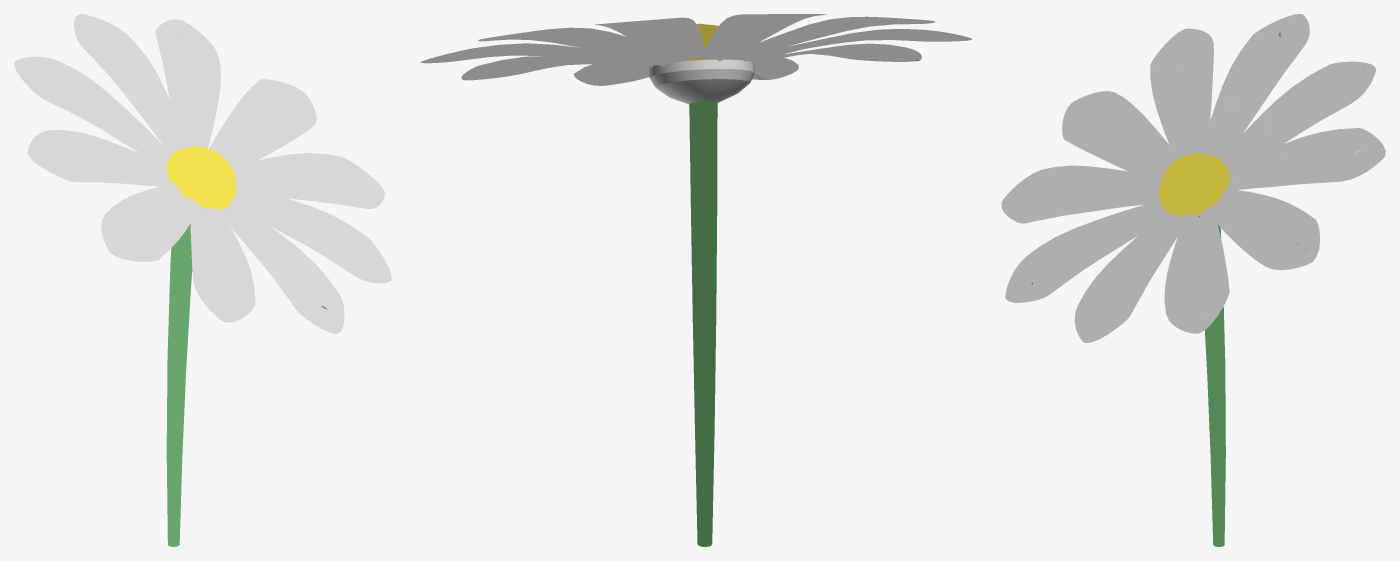
The model's file is flower.glb.
3 renders of one model, left to right at view 1: azimuth 30°, elevation 25°; view 2: azimuth 150°, elevation 25°; view 3: azimuth 270°, elevation 25°, orthographic. The views are drawn at different scales.
Visible parts, largest first — view 1: Line30, Line23, Line24, Line26, Line25, Line29, Stengel_01, Line22, Line28, Line27, Line21, Sphere03; view 2: Stengel_01, Cylinder05, Line25, Line22, Line26, Line24, Line27, Line21, Line23, Line28, Line30, Line29; view 3: Line22, Line26, Line27, Line28, Line21, Line29, Line25, Line30, Line24, Line23, Stengel_01, Sphere03.
Part boxes in pixels (x1,y1,x2,y2): Line30: [229, 186, 391, 283]; Line23: [233, 153, 384, 208]; Line24: [209, 79, 316, 169]; Line26: [74, 14, 189, 156]; Line25: [155, 19, 220, 147]; Line29: [217, 205, 344, 333]; Stengel_01: [166, 224, 192, 546]; Line22: [14, 56, 169, 167]; Line28: [190, 206, 255, 322]; Line27: [27, 130, 173, 186]; Line21: [101, 184, 199, 261]; Sphere03: [166, 146, 236, 209]; Stengel_01: [689, 100, 717, 546]; Cylinder05: [649, 59, 754, 104]; Line25: [478, 27, 680, 66]; Line22: [701, 14, 826, 61]; Line26: [595, 17, 704, 61]; Line24: [420, 43, 654, 70]; Line27: [728, 16, 935, 61]; Line21: [750, 29, 972, 63]; Line23: [461, 56, 648, 80]; Line28: [754, 43, 921, 65]; Line30: [574, 64, 649, 85]; Line29: [752, 58, 798, 79]; Line22: [1205, 14, 1309, 160]; Line26: [1221, 61, 1375, 179]; Line27: [1150, 28, 1213, 157]; Line28: [1001, 165, 1160, 223]; Line21: [1062, 91, 1179, 185]; Line29: [1005, 203, 1167, 302]; Line25: [1226, 128, 1385, 190]; Line30: [1074, 212, 1193, 342]; Line24: [1208, 190, 1319, 269]; Line23: [1164, 209, 1229, 333]; Stengel_01: [1205, 225, 1225, 546]; Sphere03: [1158, 153, 1229, 217].
Size of the model in its own units: 24.79 by 31.26 by 22.95.
